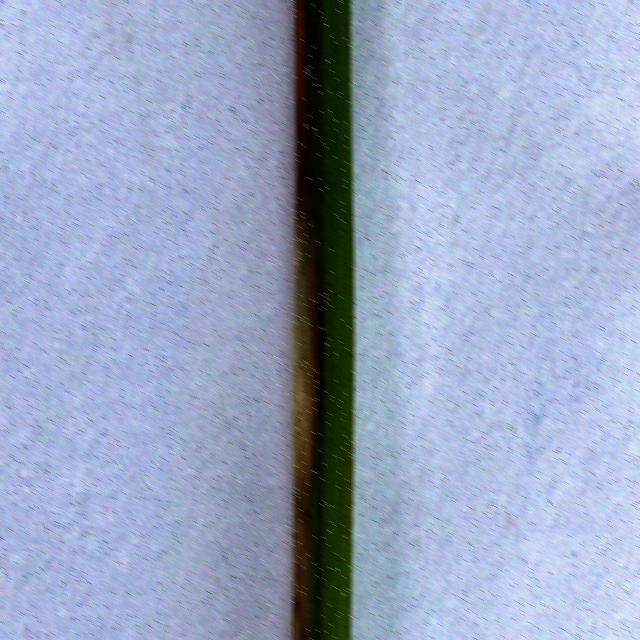BLB: (290, 0, 325, 640)
